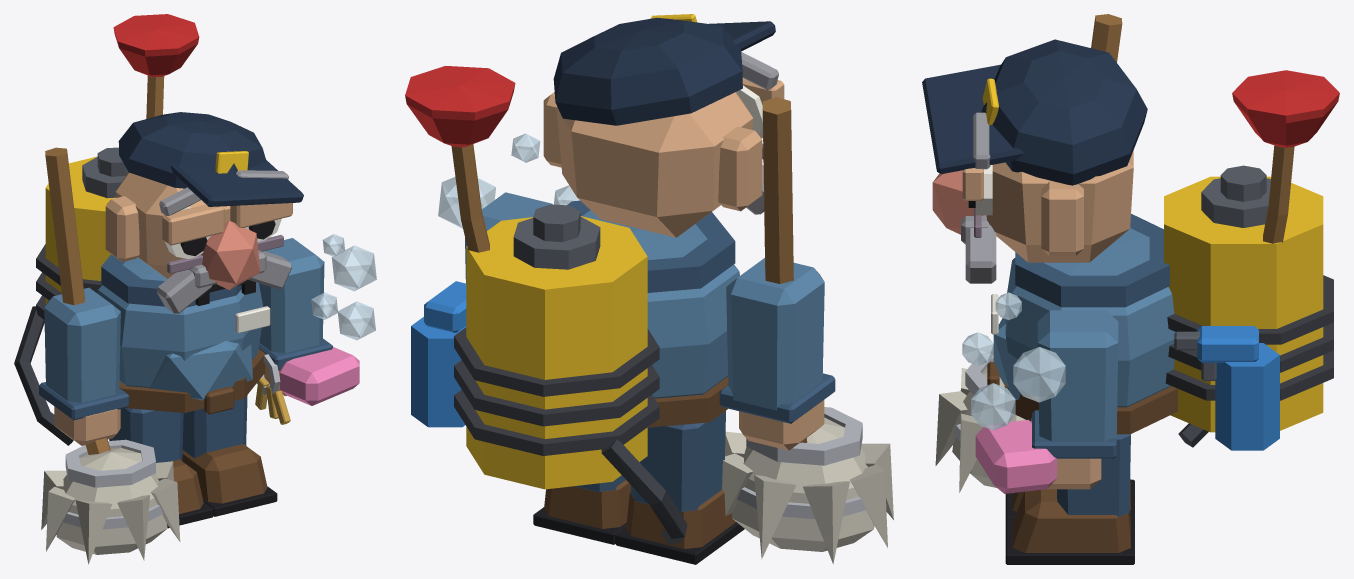
File: DougJanitor.fbx
The picture shows the model from 3 angles, left to right: view 1: azimuth 30°, elevation 25°; view 2: azimuth 150°, elevation 25°; view 3: azimuth 270°, elevation 25°; orthographic projection. The views are drawn at different scales.
Visible parts, largest first — view 1: Cap, MopHead, Torso, RightArm, LeftArm, PlungerCup, MopShaft, Belly, Tank, Bubbles, LeftLegBoot, Soap (+25 smaller); view 2: Tank, Head, Cap, Hose, MopHead, RightArm, Torso, PlungerCup, SprayBottle, RightLeg, MopShaft, TankCap (+15 smaller); view 3: Cap, Tank, Torso, LeftArm, Head, SprayBottle, Hose, Collar, PlungerCup, LeftLegBoot, Bubbles, Soap (+19 smaller).
Boxes of the visible parts, x1,y1,x2,y2 form: Cap: (118,112,303,206); MopHead: (41,448,180,564); Torso: (97,257,263,387); RightArm: (44,287,120,402); LeftArm: (259,238,324,353); PlungerCup: (113,14,199,77); MopShaft: (45,147,110,454); Belly: (150,341,252,400); Tank: (45,156,115,304); Bubbles: (311,234,376,340); LeftLegBoot: (182,444,267,503); Soap: (280,347,359,405); Tank: (466,216,647,489); Head: (556,92,753,237); Cap: (553,17,775,125); Hose: (454,327,687,544); MopHead: (722,417,893,563); RightArm: (726,258,824,410); Torso: (582,210,739,398); PlungerCup: (405,66,515,147); SprayBottle: (411,281,466,427); RightLeg: (631,411,725,512); MopShaft: (762,97,807,442); TankCap: (513,204,600,269); Cap: (922,39,1147,185); Tank: (1164,176,1323,432); Torso: (1005,228,1175,407); LeftArm: (1037,310,1118,441); Head: (986,150,1133,262); SprayBottle: (1197,326,1279,450); Hose: (1165,275,1333,447); Collar: (1015,213,1169,307); PlungerCup: (1232,70,1339,147); LeftLegBoot: (1012,489,1130,552); Bubbles: (962,292,1065,430); Soap: (975,419,1057,493).
Bounding box in the file's own units: 6.14 × 6.76 × 5.43.
